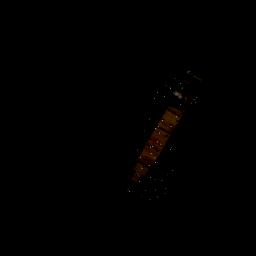boat: (117, 61, 205, 205)
